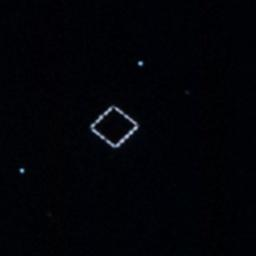square_solid: (86, 101, 144, 153)
